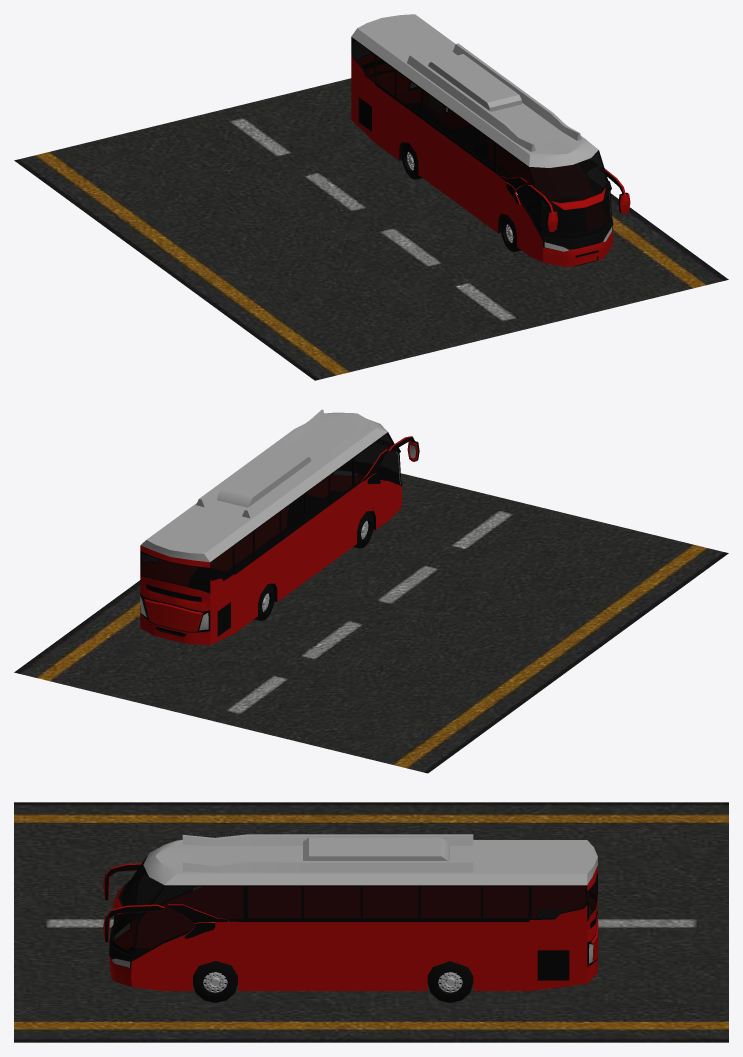
File: bus_setia_negara_texturizer.obj
3 renders of one model, top to bottom at view 1: azimuth 30°, elevation 25°; view 2: azimuth 150°, elevation 25°; view 3: azimuth 270°, elevation 25°, orthographic. The views are drawn at different scales.
Parts seen in each view (by area): view 1: jalan_Plane, body_bus_Cube; view 2: jalan_Plane, body_bus_Cube; view 3: jalan_Plane, body_bus_Cube.
Boxes of the visible parts, <box> form: jalan_Plane: <box>14,78,728,380</box>; body_bus_Cube: <box>351,14,630,266</box>; jalan_Plane: <box>14,473,728,773</box>; body_bus_Cube: <box>140,409,419,645</box>; jalan_Plane: <box>14,802,728,1042</box>; body_bus_Cube: <box>103,834,598,1002</box>.
Size of the model in its own units: 18.29 by 4.87 by 23.02.
